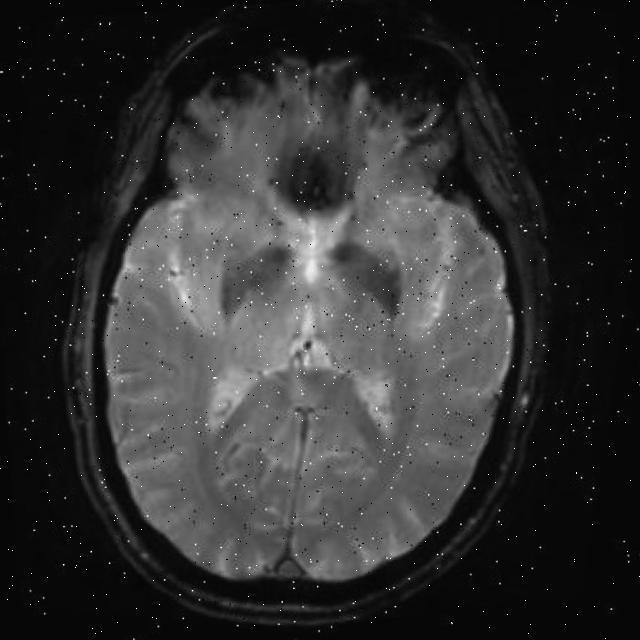MCI: (248, 112, 386, 244), (319, 228, 426, 338), (202, 232, 284, 310)
